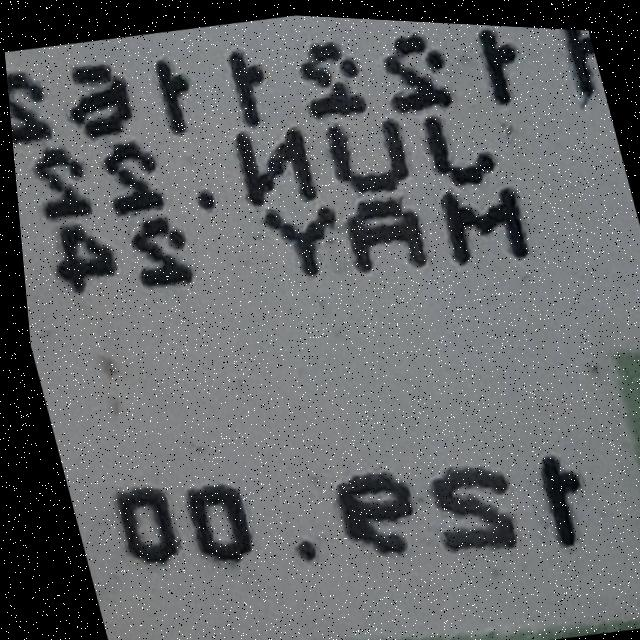sentence: (5, 21, 598, 143), (31, 110, 491, 230), (106, 446, 574, 562), (50, 180, 522, 295)
